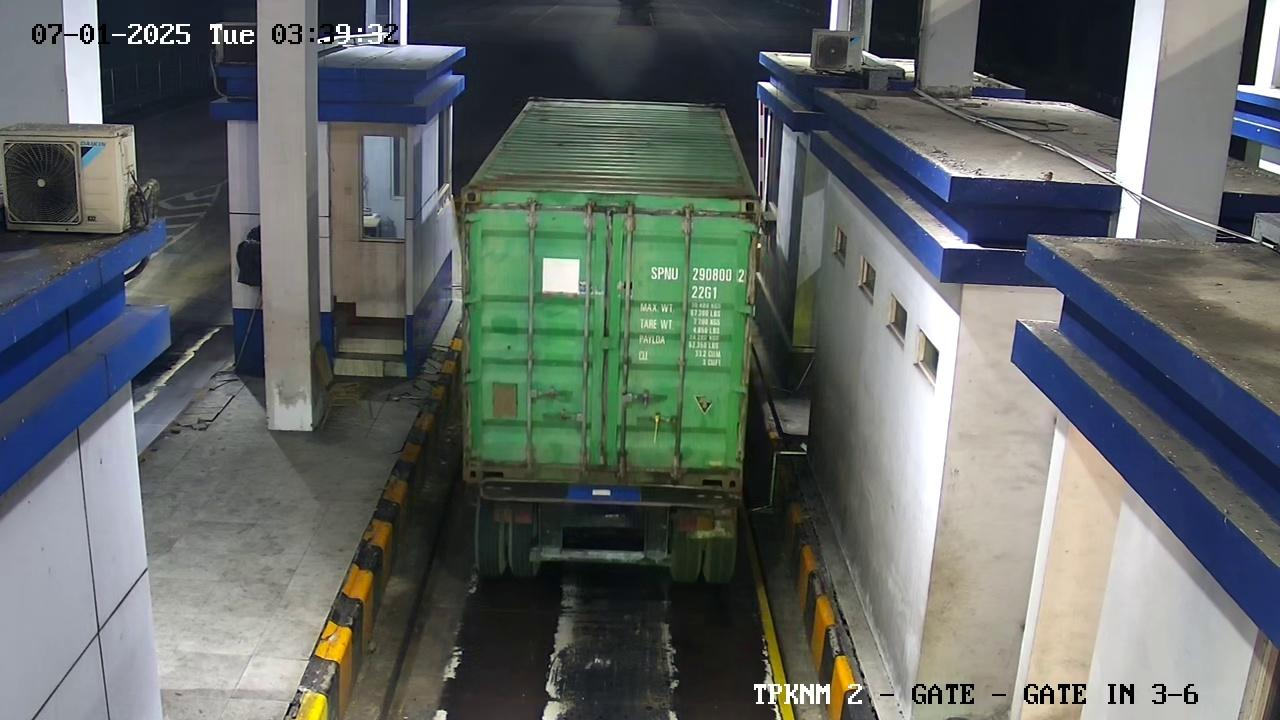Container_ID: (638, 262, 764, 289)
